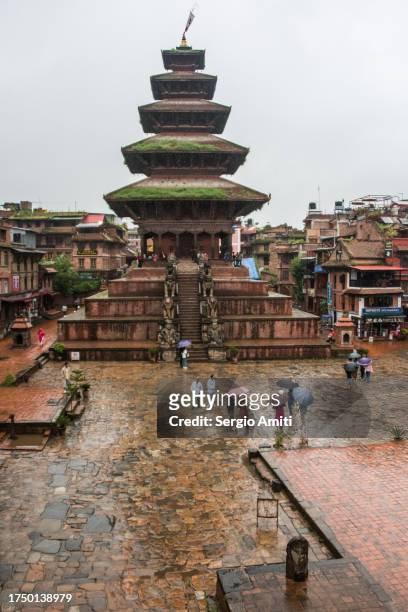nyathapola: (61, 15, 311, 349)
